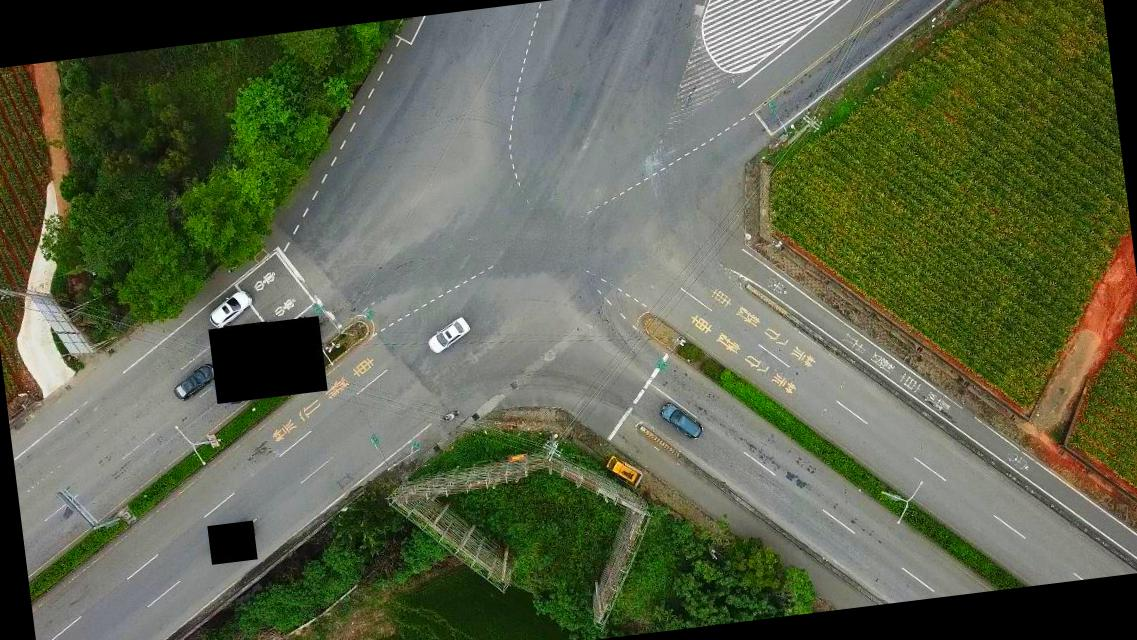vehicle: (206, 287, 258, 328), (658, 398, 704, 443), (427, 314, 471, 354), (172, 362, 218, 399), (603, 452, 641, 487)
